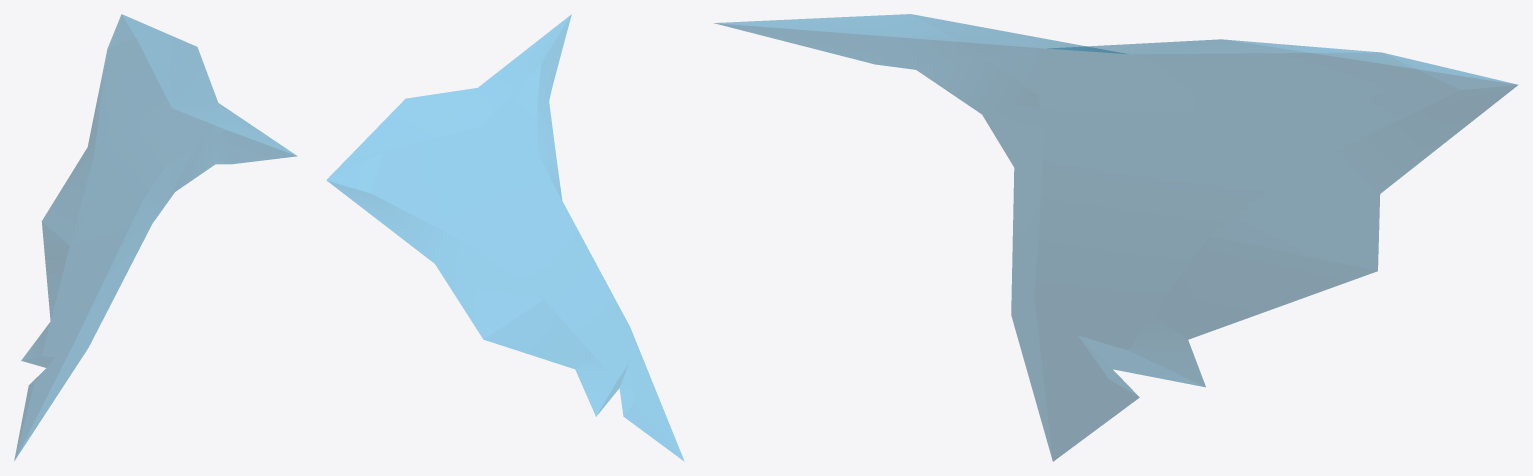
The model's file is p_hvs_minidungeon_rewardlocker_general_shatterglass_part02.fbx.
The picture shows the model from 3 angles, left to right: view 1: azimuth 30°, elevation 25°; view 2: azimuth 150°, elevation 25°; view 3: azimuth 270°, elevation 25°; orthographic projection. The views are drawn at different scales.
Parts seen in each view (by area): view 1: p_mesh_powerbreaker_glass02; view 2: p_mesh_powerbreaker_glass02; view 3: p_mesh_powerbreaker_glass02.
Part boxes in pixels (x1,y1,x2,y2): p_mesh_powerbreaker_glass02: (14,14,296,460); p_mesh_powerbreaker_glass02: (326,14,684,461); p_mesh_powerbreaker_glass02: (714,14,1517,461).
Size of the model in its own units: 0.5363 by 0.7395 by 0.8463.
